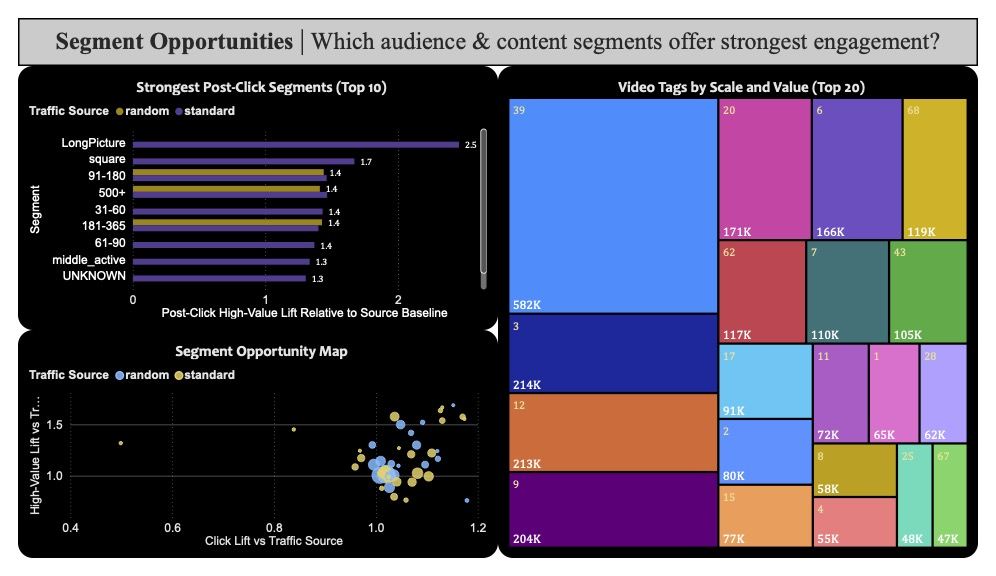

The page's visual inventory and layout, read from the dashboard file:
{"tool":"powerbi","page":{"name":"Segment Opportunities","canvas":[1280,720],"ordinal":3},"visuals":[{"type":"textbox","box":[0,0,1280,64],"z":0},{"type":"scatterChart","title":"Segment Opportunity Map","fields":{"X":["Avg(priority_segment_opportunities.click_rate_lift_within_traffic_source)"],"Y":["Avg(priority_segment_opportunities.high_value_engagement_rate_lift_within_traffic_source)"],"Size":["Sum(priority_segment_opportunities.impression_count)"],"Category":["priority_segment_opportunities.Opportunity Label"],"Series":["priority_segment_opportunities.traffic_source"]},"box":[0,416,640,304],"z":1000},{"type":"treemap","title":"Video Tags by Scale and Value (Top 20)","fields":{"Group":["video_tag_performance.video_tag"],"Values":["Sum(video_tag_performance.impression_count)"]},"box":[640,64,640,656],"z":2000},{"type":"clusteredBarChart","title":"Strongest Post-Click Segments (Top 10)","fields":{"Y":["Avg(post_click_priority_segments.click_to_high_value_engagement_rate_lift_within_traffic_source)"],"Category":["post_click_priority_segments.segment_value"],"Series":["post_click_priority_segments.traffic_source"]},"box":[0,64,640,352],"z":3000}]}

Visuals, with their boxes in screenshot pixels (x1, y1, x2, y2), scaled from the page's 1280x720 canvas onto the 996x576 screenshot:
textbox: pyautogui.locateOnScreen(0, 0, 995, 51)
"Segment Opportunity Map" scatterChart: pyautogui.locateOnScreen(0, 333, 498, 575)
"Video Tags by Scale and Value (Top 20)" treemap: pyautogui.locateOnScreen(498, 51, 995, 575)
"Strongest Post-Click Segments (Top 10)" clusteredBarChart: pyautogui.locateOnScreen(0, 51, 498, 333)
